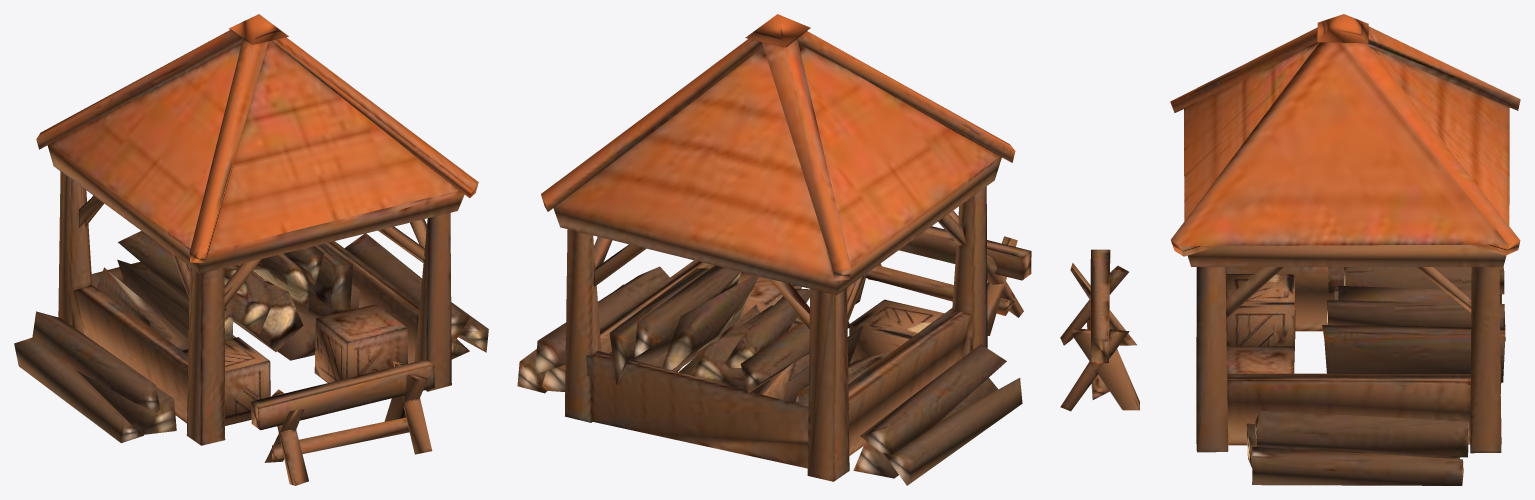
The picture shows the model from 3 angles, left to right: view 1: azimuth 30°, elevation 25°; view 2: azimuth 150°, elevation 25°; view 3: azimuth 270°, elevation 25°; orthographic projection. The views are drawn at different scales.
Visible parts, largest first — view 1: supply22; view 2: supply22; view 3: supply22.
Part boxes in pixels (box(x1,y1,x2,y2)): supply22: box(14, 14, 488, 485); supply22: box(517, 14, 1031, 485); supply22: box(1060, 14, 1520, 485).
Bounding box in the file's own units: 1.89 × 1.71 × 1.9.
1 material, 1 textured.
